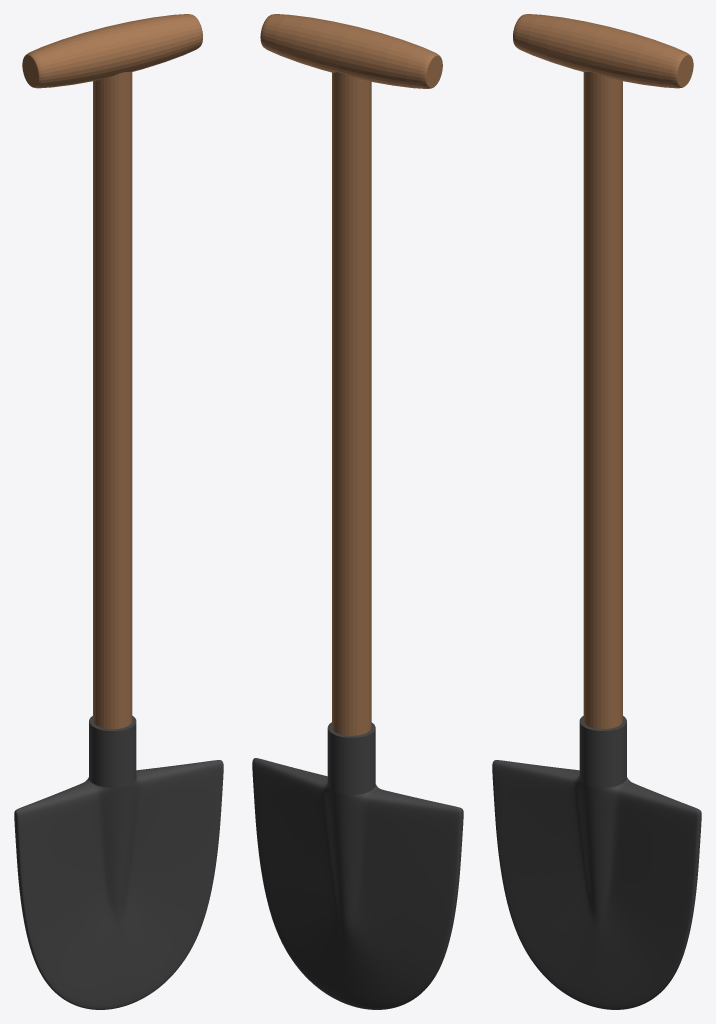
Rendered from Shovel.fbx.
The picture shows the model from 3 angles, left to right: view 1: azimuth 30°, elevation 25°; view 2: azimuth 150°, elevation 25°; view 3: azimuth 330°, elevation 25°; orthographic projection.
Visible parts, largest first — view 1: Circle, Cylinder, Sphere; view 2: Circle, Cylinder, Sphere; view 3: Circle, Cylinder, Sphere.
Boxes of the visible parts, box(x1,y1,x2,y2) form: Circle: box(14, 716, 223, 1009); Cylinder: box(93, 72, 132, 729); Sphere: box(22, 14, 202, 88); Circle: box(252, 722, 463, 1009); Cylinder: box(332, 72, 371, 735); Sphere: box(260, 14, 442, 88); Circle: box(492, 716, 701, 1009); Cylinder: box(583, 72, 622, 729); Sphere: box(513, 14, 693, 88).
Bounding box in the file's own units: 1198 × 5378 × 253.
